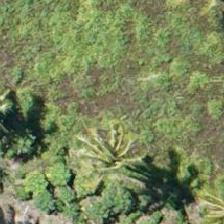coconut_tree: (52, 116, 142, 206)
